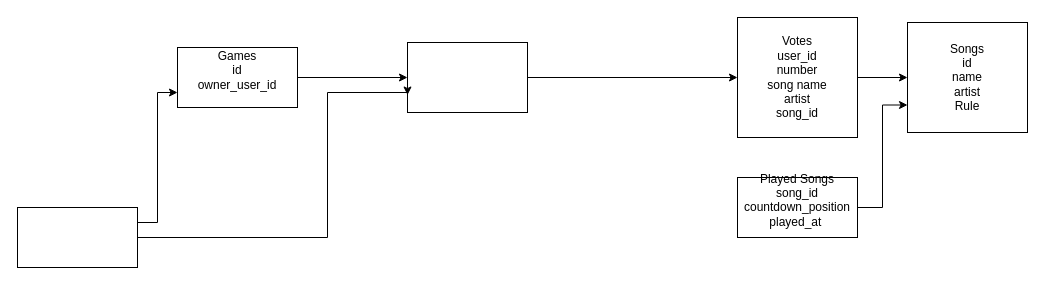
This 1045x285 diagram has some shape labels left out. The shapes that lost their labels are listed below. From the top down, each one's box as (x1, y1, x2, y2) in pixels, then its label:
(406, 42, 528, 112): Users (auth) id name username password
(16, 206, 138, 268): Game players game_id user_id
